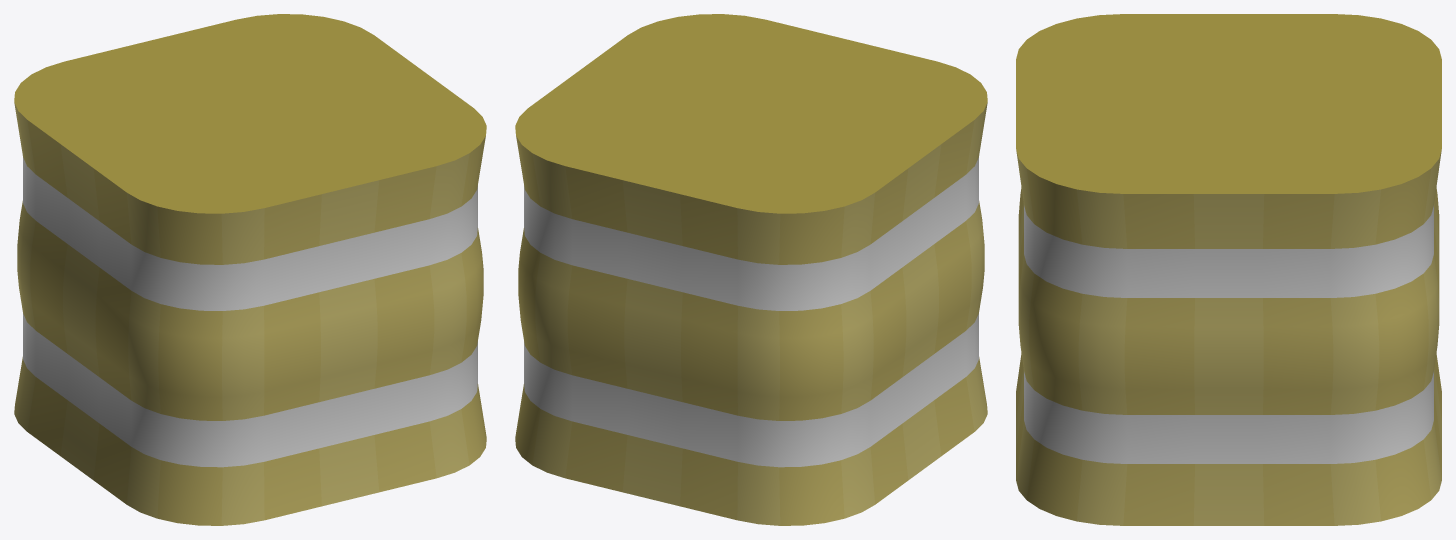
The model's file is Mini hay.fbx.
3 views of the same model, side by side, from view 1: azimuth 30°, elevation 25°; view 2: azimuth 150°, elevation 25°; view 3: azimuth 270°, elevation 25° (orthographic). The views are drawn at different scales.
Visible parts, largest first — view 1: Mini hay; view 2: Mini hay; view 3: Mini hay.
Boxes of the visible parts, x1,y1,x2,y2 form: Mini hay: (14, 14, 486, 525); Mini hay: (515, 14, 987, 525); Mini hay: (1016, 14, 1441, 525).
Size of the model in its own units: 0.9262 by 0.7967 by 0.9262.
